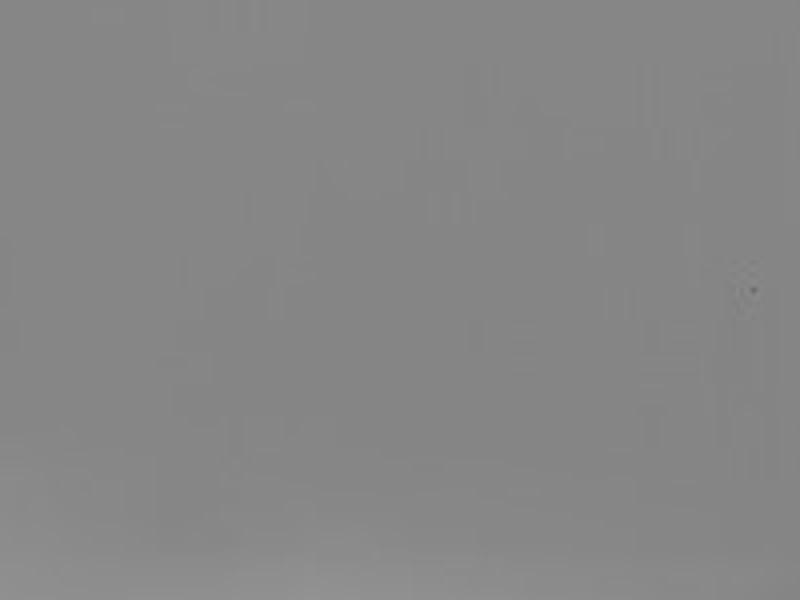defect: (743, 281, 766, 304)
